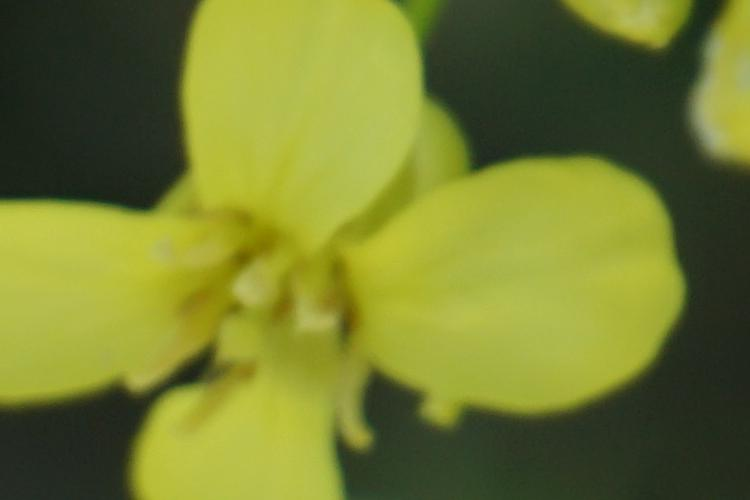yellow: (3, 4, 687, 500)
